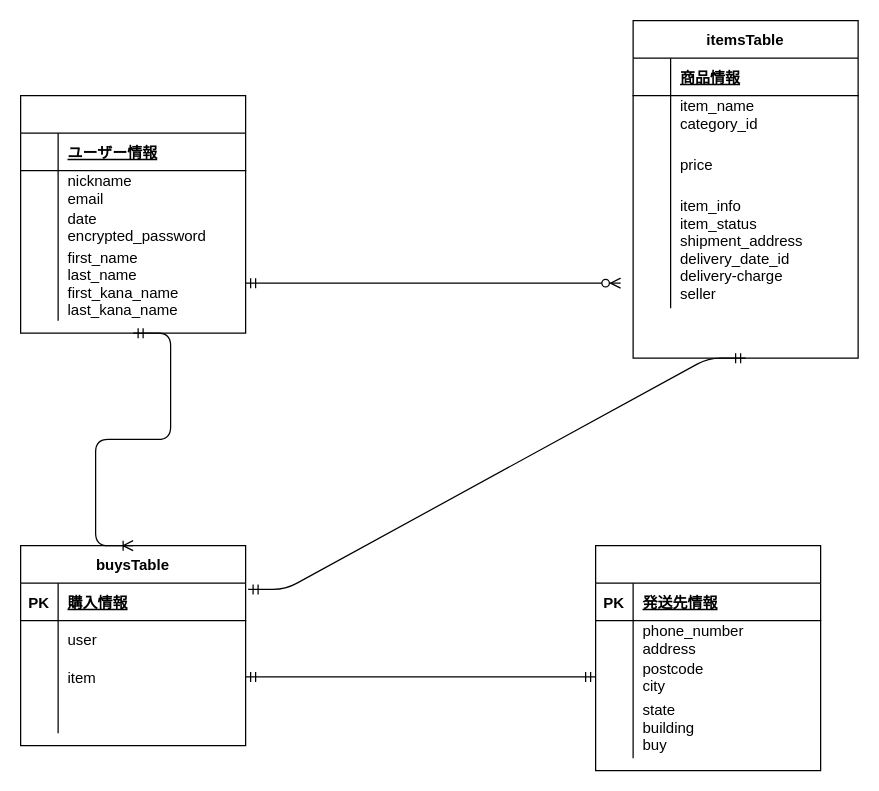
This 879x791 diagram has some shape labels left out. The shapes that lost their labels are listed below. From the top down, each one's box as (x1, y1, x2, y2) in pixels, then its label:
(19, 94, 246, 333): usersTable
(594, 544, 821, 771): shippingsTable
